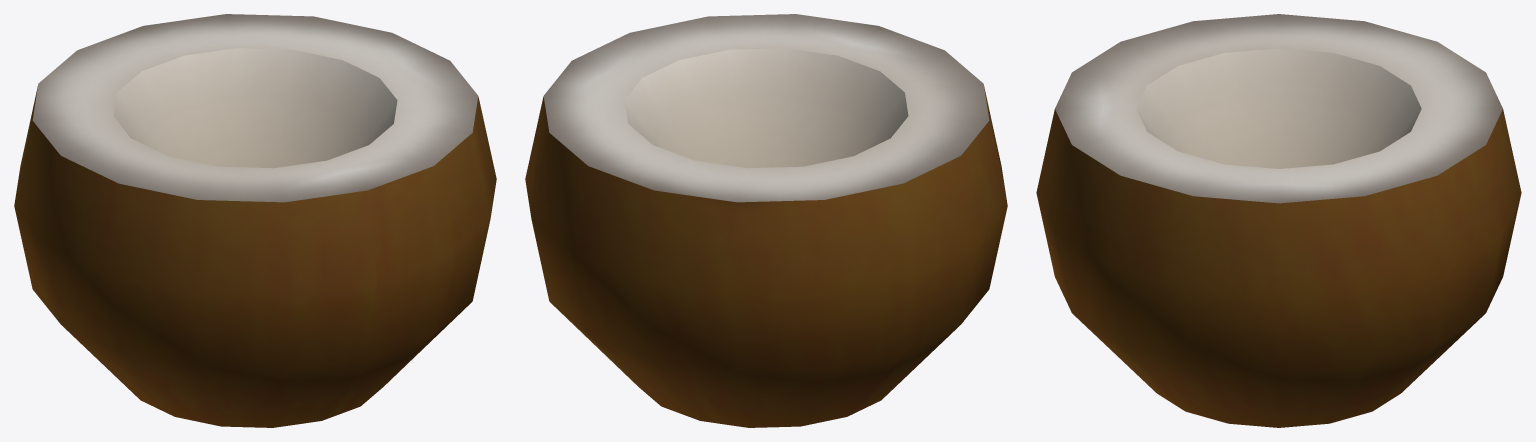
Rendered from Beach_coconut_02.fbx.
3 views of the same model, side by side, from view 1: azimuth 30°, elevation 25°; view 2: azimuth 150°, elevation 25°; view 3: azimuth 270°, elevation 25° (orthographic).
Visible parts, largest first — view 1: Beach_coconut_02; view 2: Beach_coconut_02; view 3: Beach_coconut_02.
Part boxes in pixels (x1=…): Beach_coconut_02: x1=14, y1=14, x2=496, y2=427; Beach_coconut_02: x1=525, y1=14, x2=1007, y2=427; Beach_coconut_02: x1=1036, y1=14, x2=1521, y2=427.
Bounding box in the file's own units: 77.36 × 53.48 × 77.36.
